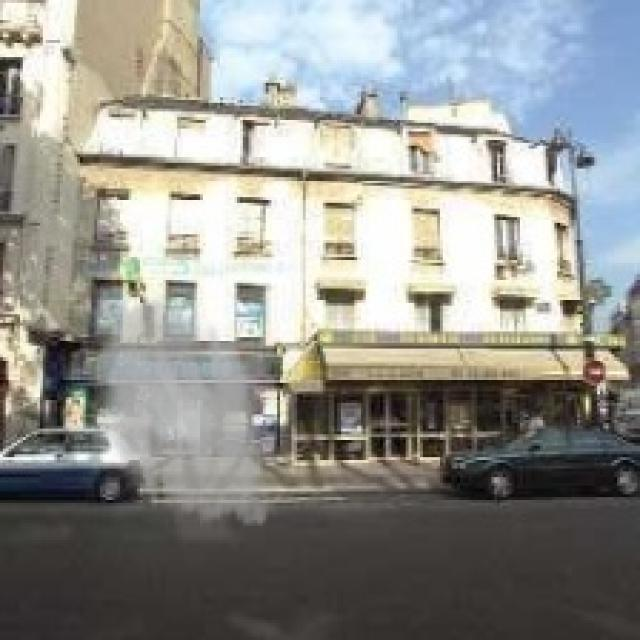Smoke: (77, 282, 292, 538)
